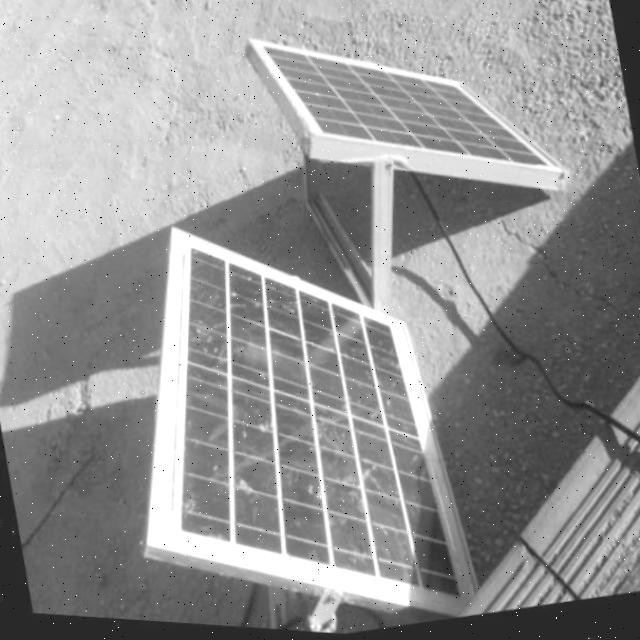Normal Solar Panel: (245, 0, 572, 231)
